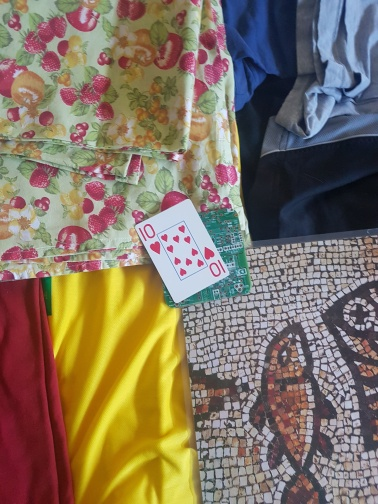ten: (134, 198, 230, 307)
